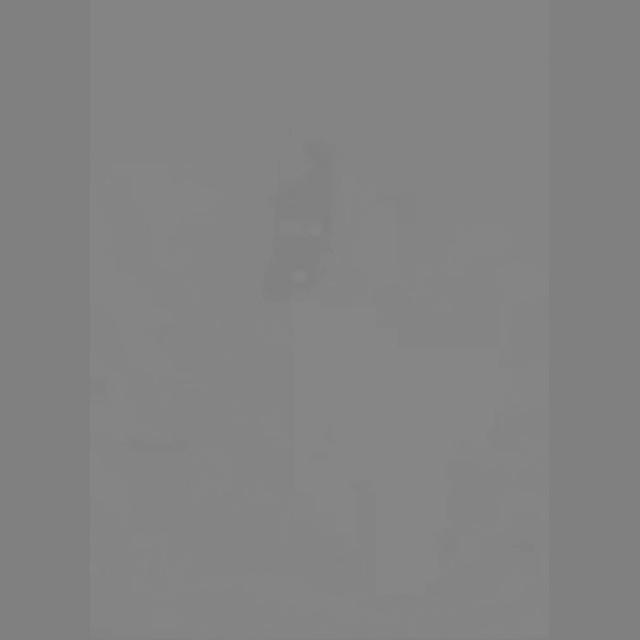gubia: (191, 82, 443, 573)
